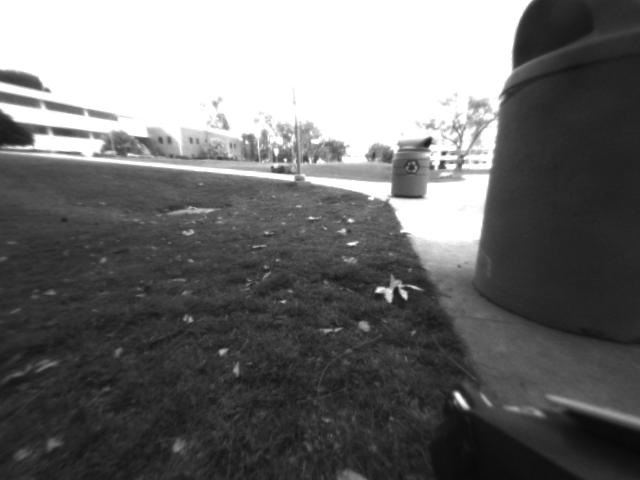trashcan: (458, 1, 640, 349)
